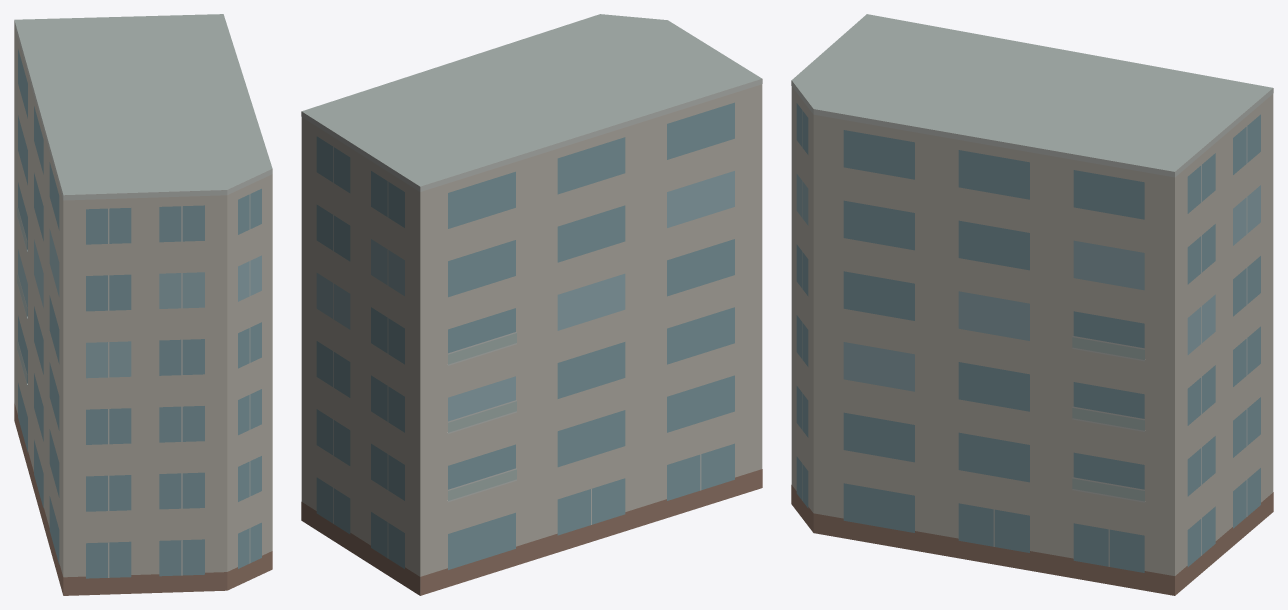
Rendered from survey-upis-32667282.glb.
The picture shows the model from 3 angles, left to right: view 1: azimuth 30°, elevation 25°; view 2: azimuth 150°, elevation 25°; view 3: azimuth 270°, elevation 25°; orthographic projection. The views are drawn at different scales.
Visible parts, largest first — view 1: survey-upis-32667282.tmp; view 2: survey-upis-32667282.tmp; view 3: survey-upis-32667282.tmp.
Part boxes in pixels (x1,y1,x2,y2): survey-upis-32667282.tmp: [14, 14, 272, 595]; survey-upis-32667282.tmp: [301, 14, 762, 595]; survey-upis-32667282.tmp: [791, 14, 1273, 595].
Bounding box in the file's own units: 14.62 × 18.3 × 18.85.
